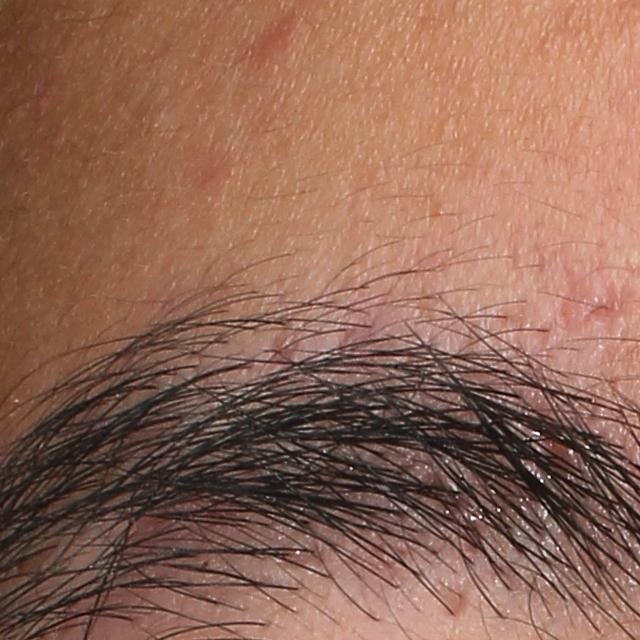atrophic_scar: (547, 262, 639, 334), (444, 582, 469, 617)
papule: (255, 11, 305, 65)
